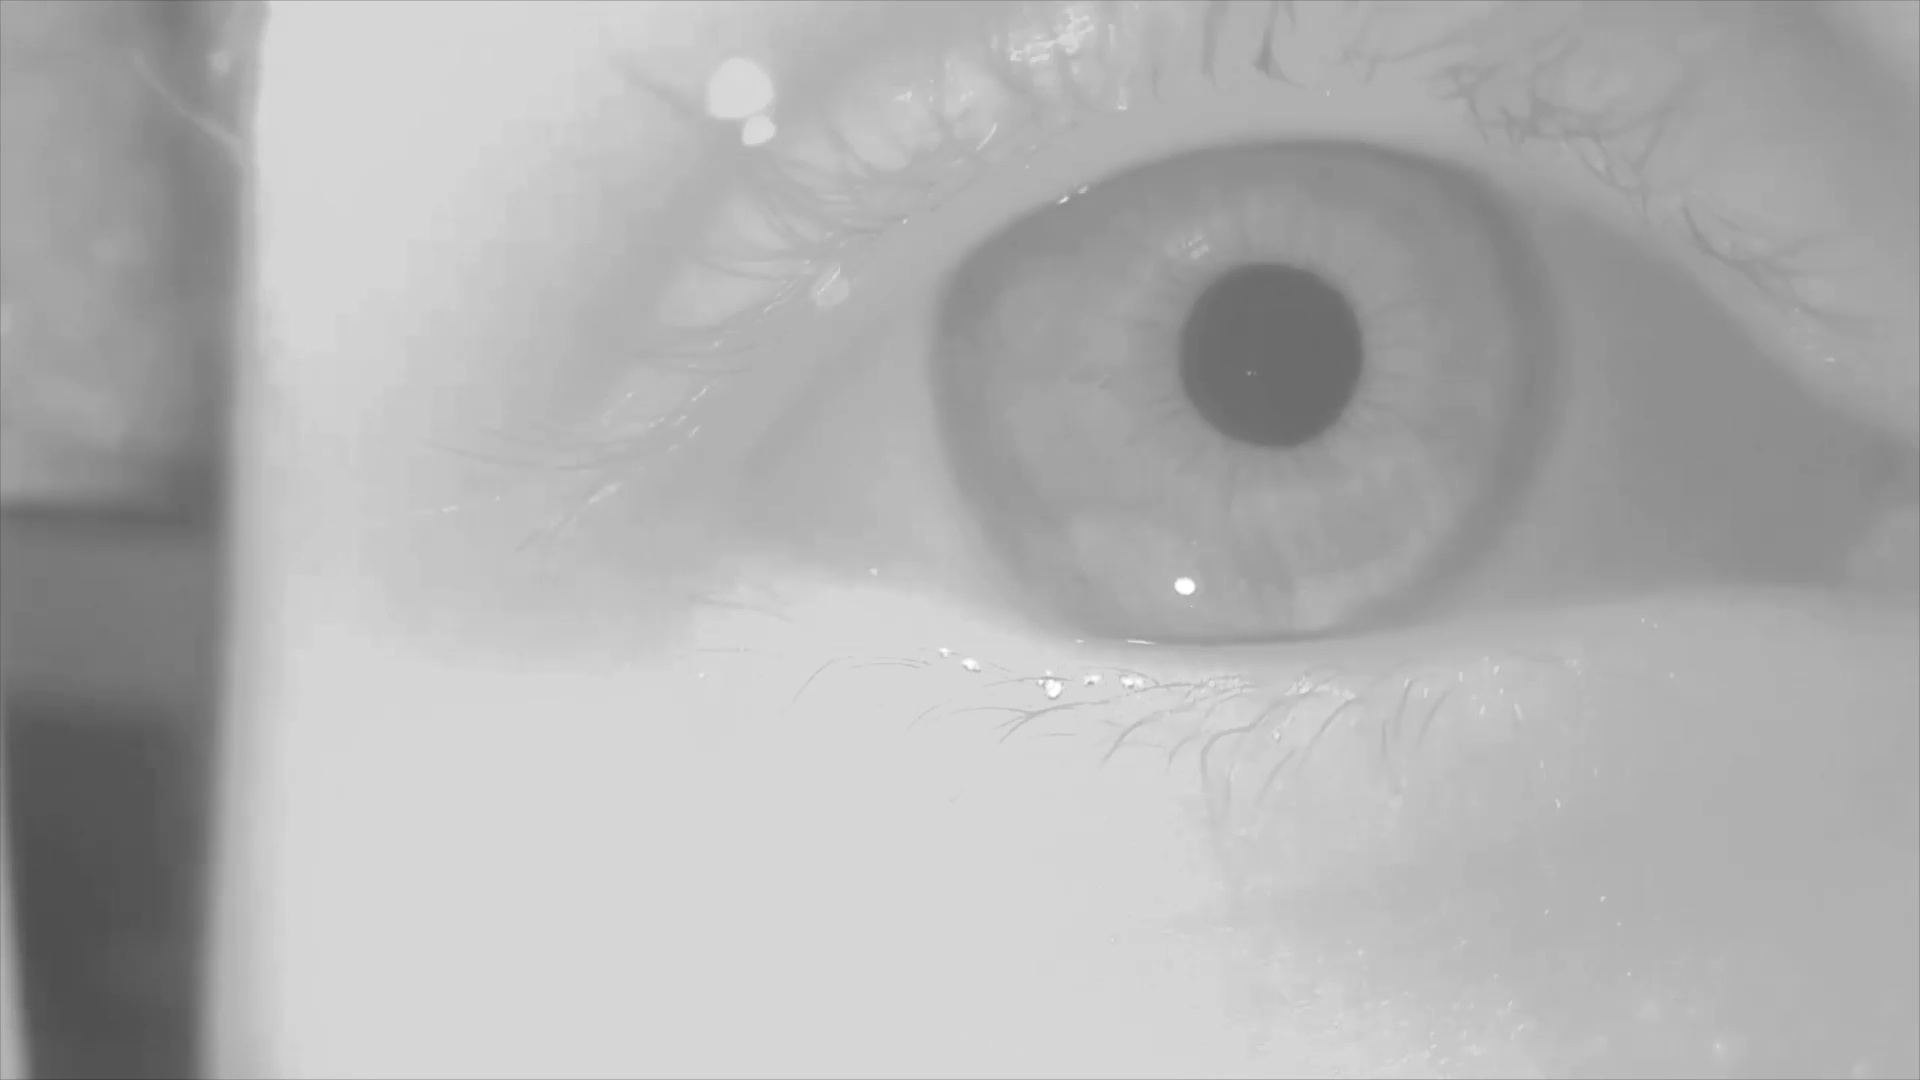pupil: (1180, 261, 1364, 447)
